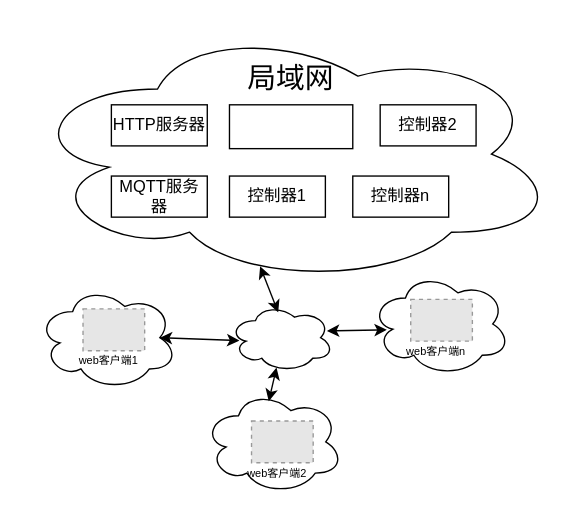
The diagram is 582 pixels wide and 522 high, and some of its shapes have lost their labels. Grey dashed boxes stand in for pictures. Each missing label, with the centre of its shape:
"云计算服务器" belongs at (290,126).
"互联网" belongs at (281,337).
